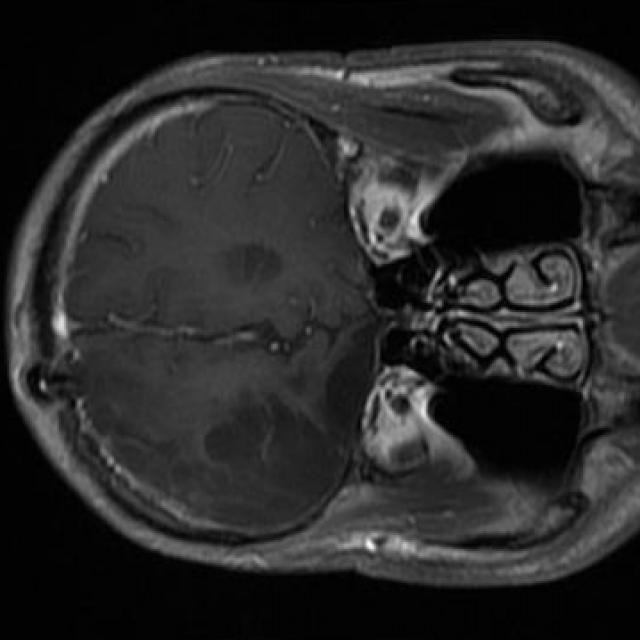glioma: (200, 339, 376, 528)
